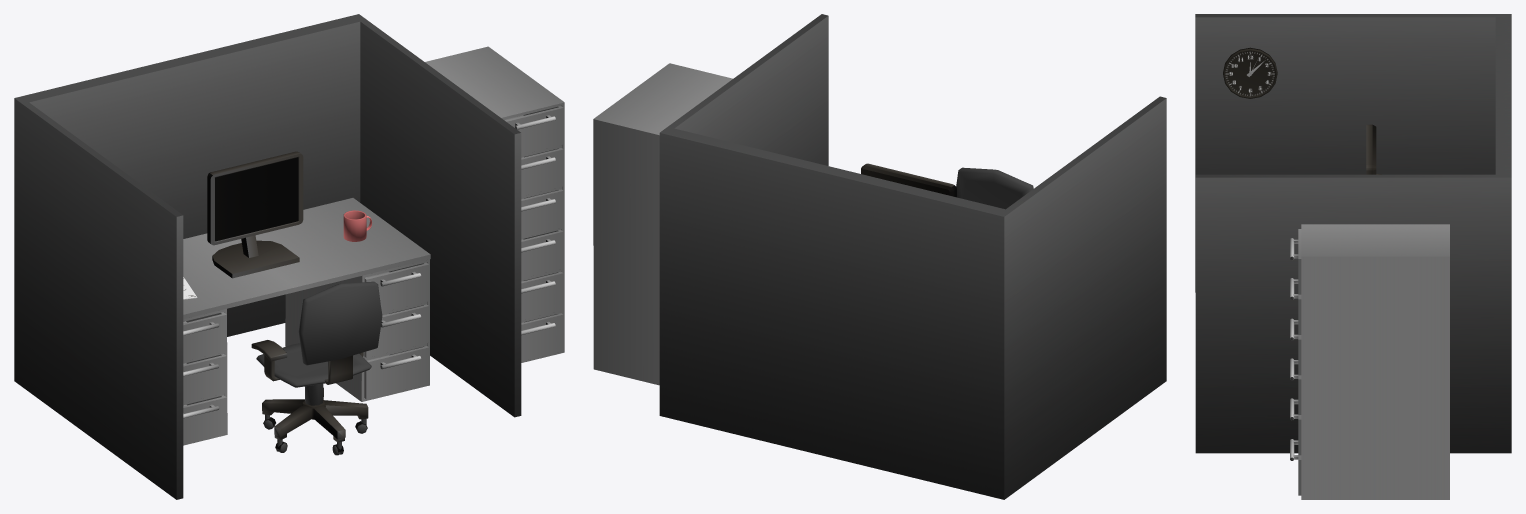
File: Oficina.fbx
3 views of the same model, side by side, from view 1: azimuth 30°, elevation 25°; view 2: azimuth 150°, elevation 25°; view 3: azimuth 270°, elevation 25° (orthographic). The views are drawn at different scales.
Visible parts, largest first — view 1: Cubiculo, Escritorio Cerrado, Archivador, Silla, Computador, Taza; view 2: Cubiculo, Archivador, Silla, Computador; view 3: Cubiculo, Archivador, Reloj, Computador.
Boxes of the visible parts, left/top/right/bottom form: Cubiculo: left=14, top=14, right=521, bottom=499; Escritorio Cerrado: left=183, top=198, right=430, bottom=445; Archivador: left=425, top=46, right=564, bottom=362; Silla: left=251, top=281, right=382, bottom=455; Computador: left=207, top=151, right=303, bottom=278; Taza: left=343, top=210, right=372, bottom=241; Cubiculo: left=659, top=14, right=1166, bottom=499; Archivador: left=593, top=63, right=732, bottom=385; Silla: left=956, top=167, right=1033, bottom=209; Computador: left=861, top=163, right=956, bottom=197; Cubiculo: left=1195, top=14, right=1511, bottom=453; Archivador: left=1290, top=224, right=1449, bottom=499; Reloj: left=1223, top=47, right=1277, bottom=98; Computador: left=1366, top=124, right=1381, bottom=174.
Bounding box in the file's own units: 1309 × 801 × 832.
Materials: 6 (6 with a texture image).
